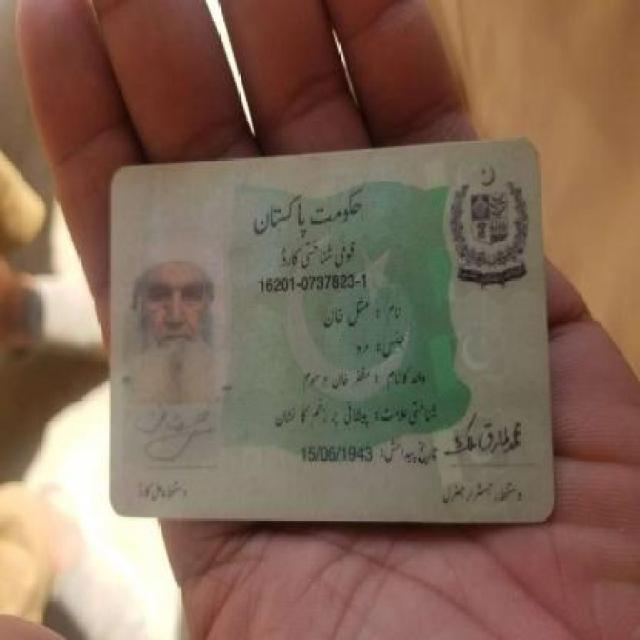Front: (100, 147, 560, 536)
